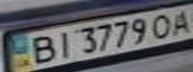3: (75, 24, 96, 55)
7: (93, 20, 115, 52), (112, 17, 133, 48)
9: (127, 16, 154, 45)
A: (166, 6, 193, 36)
B: (21, 33, 60, 65)
I: (48, 28, 75, 60)
O: (148, 11, 178, 39)
